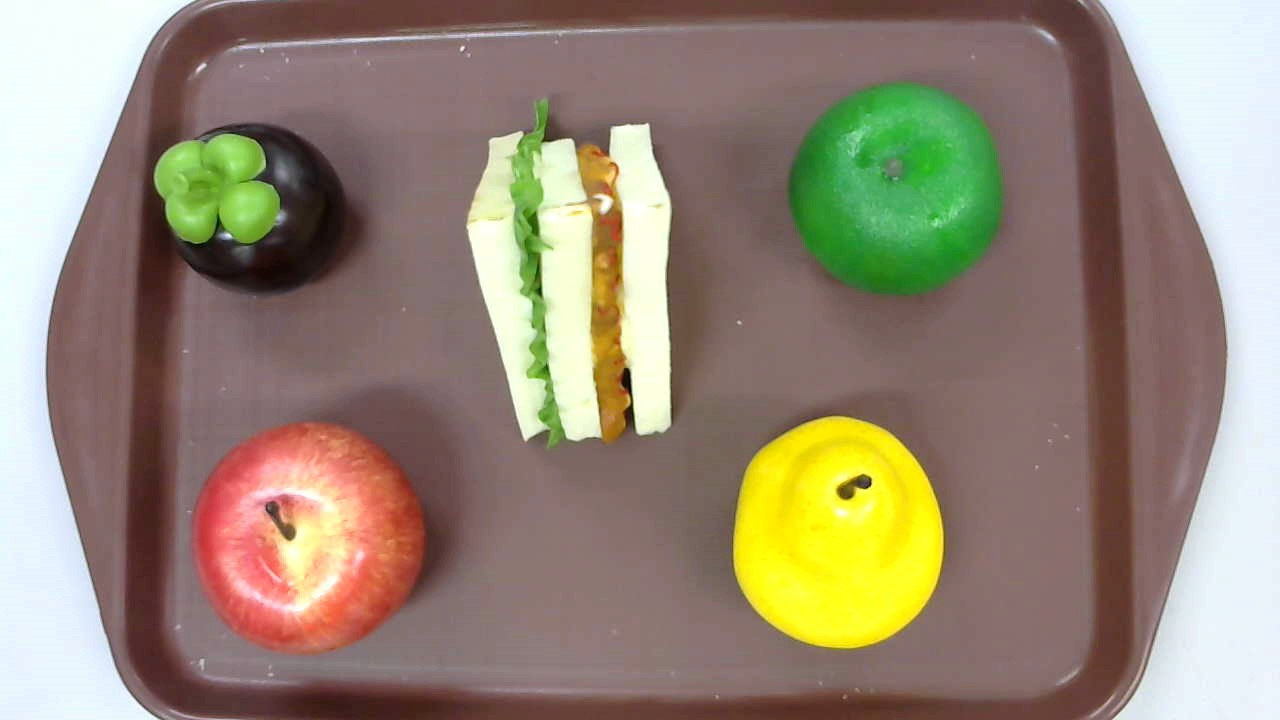green orange: (789, 83, 1002, 297)
mangosteen: (153, 124, 346, 297)
red apple: (191, 421, 426, 654)
sandwich: (466, 98, 674, 453)
yellow pear: (732, 417, 943, 648)
